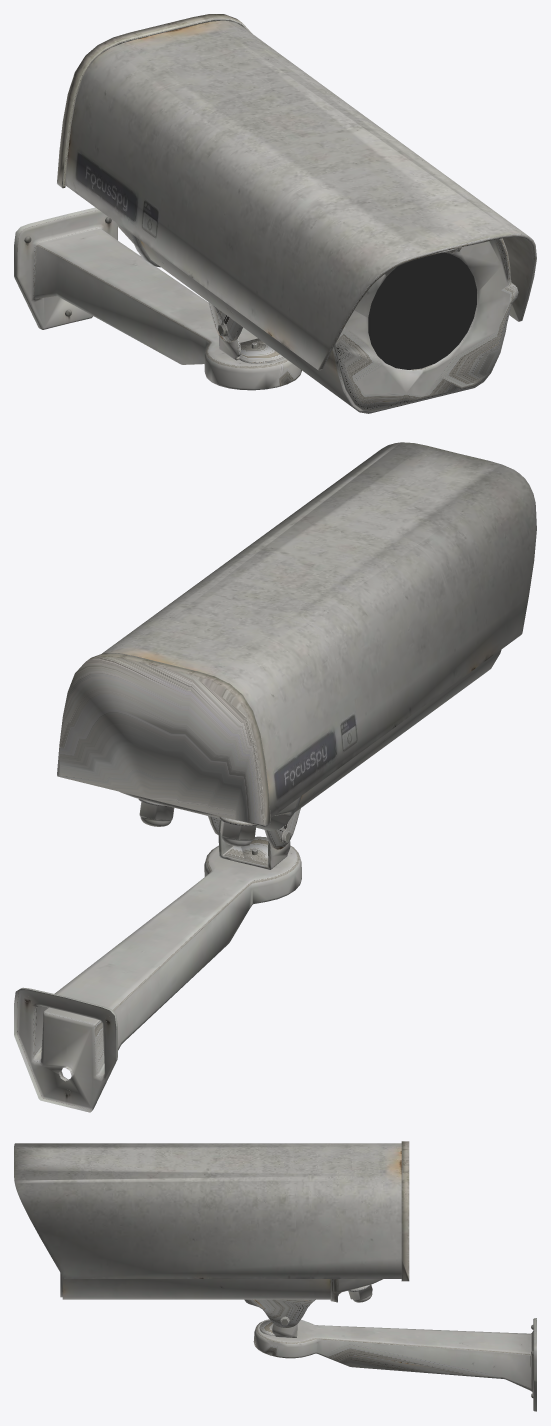
The model's file is security_camera_01.glb.
The picture shows the model from 3 angles, top to bottom: view 1: azimuth 30°, elevation 25°; view 2: azimuth 150°, elevation 25°; view 3: azimuth 270°, elevation 25°; orthographic projection. The views are drawn at different scales.
Visible parts, largest first — view 1: security_camera_01; view 2: security_camera_01; view 3: security_camera_01.
Boxes of the visible parts, box(x1,y1,x2,y2) form: security_camera_01: box(14, 14, 536, 413); security_camera_01: box(14, 442, 536, 1112); security_camera_01: box(14, 1141, 536, 1411).
Size of the model in its own units: 0.1695 by 0.2861 by 0.5537.
2 materials, 2 textured.
